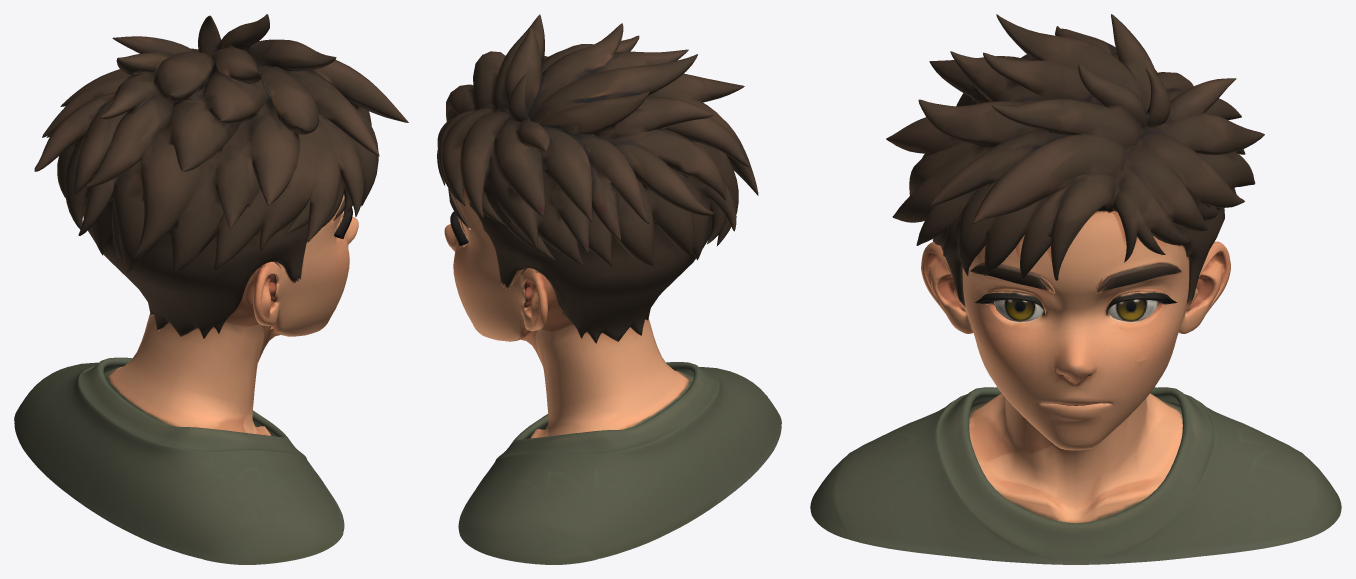
Rendered from output_model_url.fbx.
The picture shows the model from 3 angles, left to right: view 1: azimuth 30°, elevation 25°; view 2: azimuth 150°, elevation 25°; view 3: azimuth 270°, elevation 25°; orthographic projection. The views are drawn at different scales.
Parts seen in each view (by area): view 1: tripo_node_70f37974; view 2: tripo_node_70f37974; view 3: tripo_node_70f37974.
Part boxes in pixels (left/top/right/bottom): tripo_node_70f37974: left=14, top=14, right=408, bottom=564; tripo_node_70f37974: left=437, top=14, right=781, bottom=564; tripo_node_70f37974: left=810, top=14, right=1341, bottom=564.
Size of the model in its own units: 73.1 by 99.95 by 98.19.
Materials: 1 (1 with a texture image).
